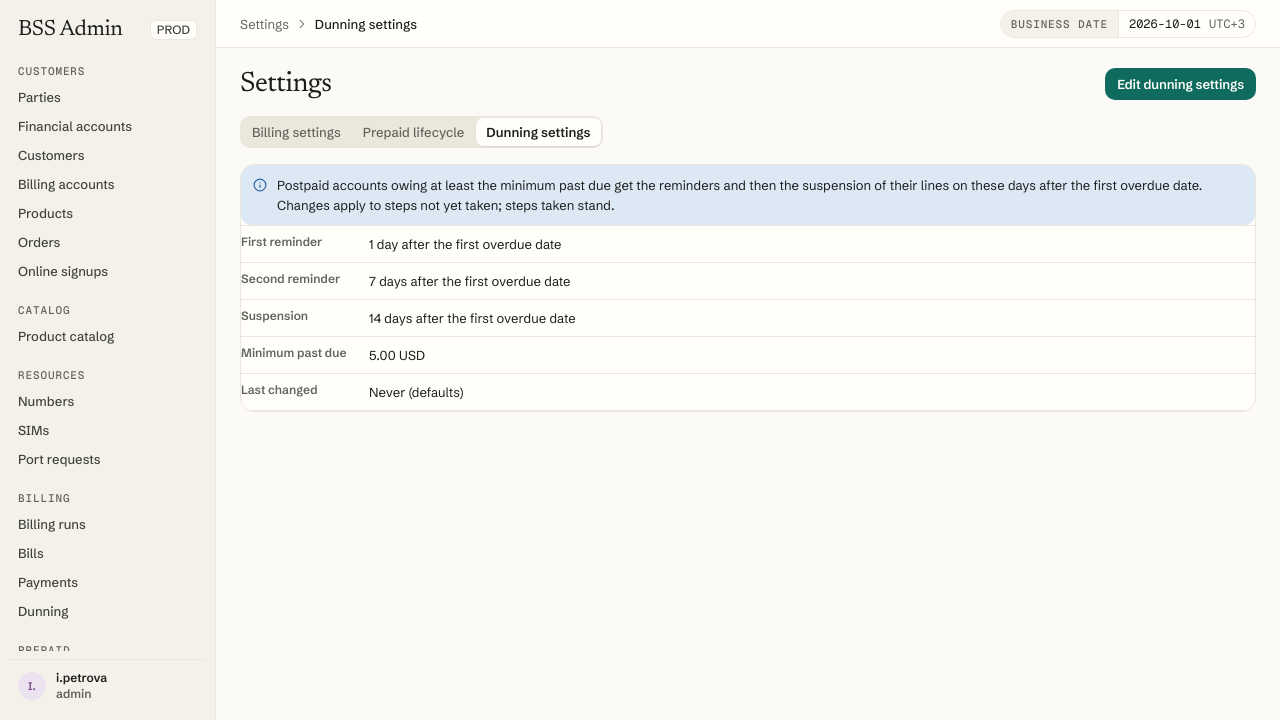
Scenario: dunning settings › cancels the edit, and refreshes after an unanswered save
Expected: the heading "Settings" is shown, [240,68,332,100]
Click the button "Edit dunning settings" at [1181, 84], box [1105,68,1256,100]
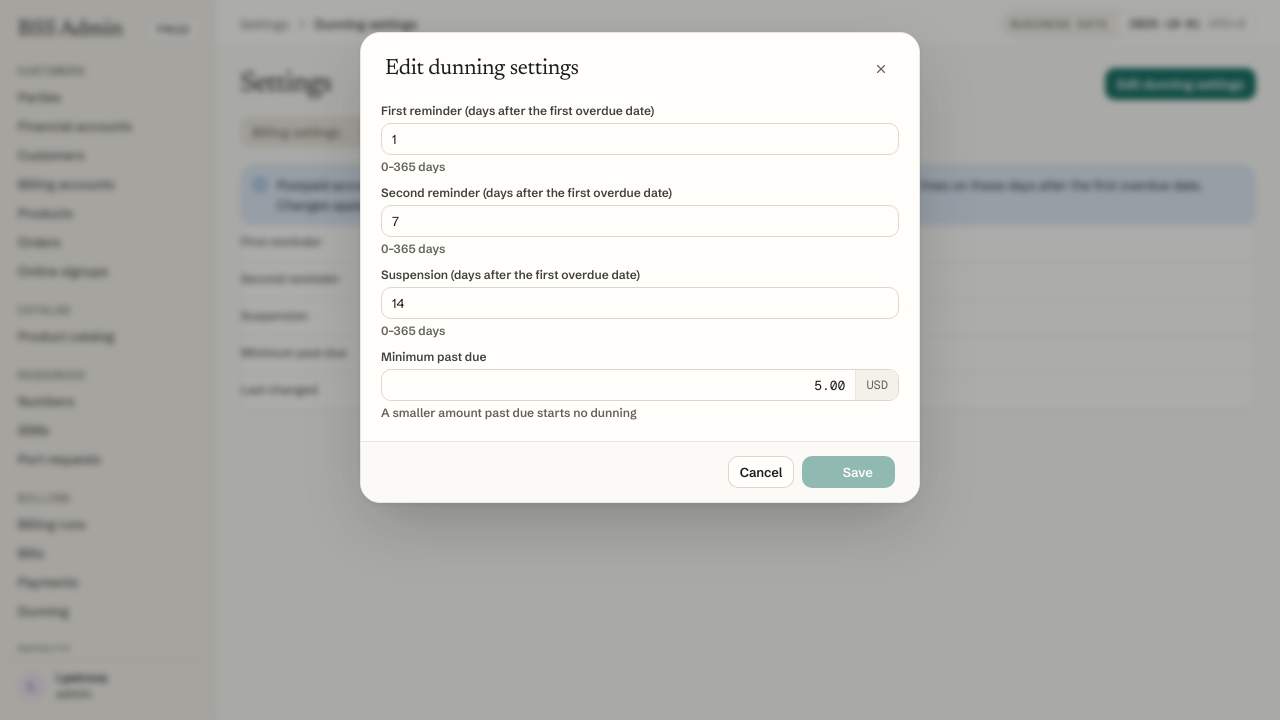
Click the button "Cancel" at [761, 472], box [728,456,794,488]
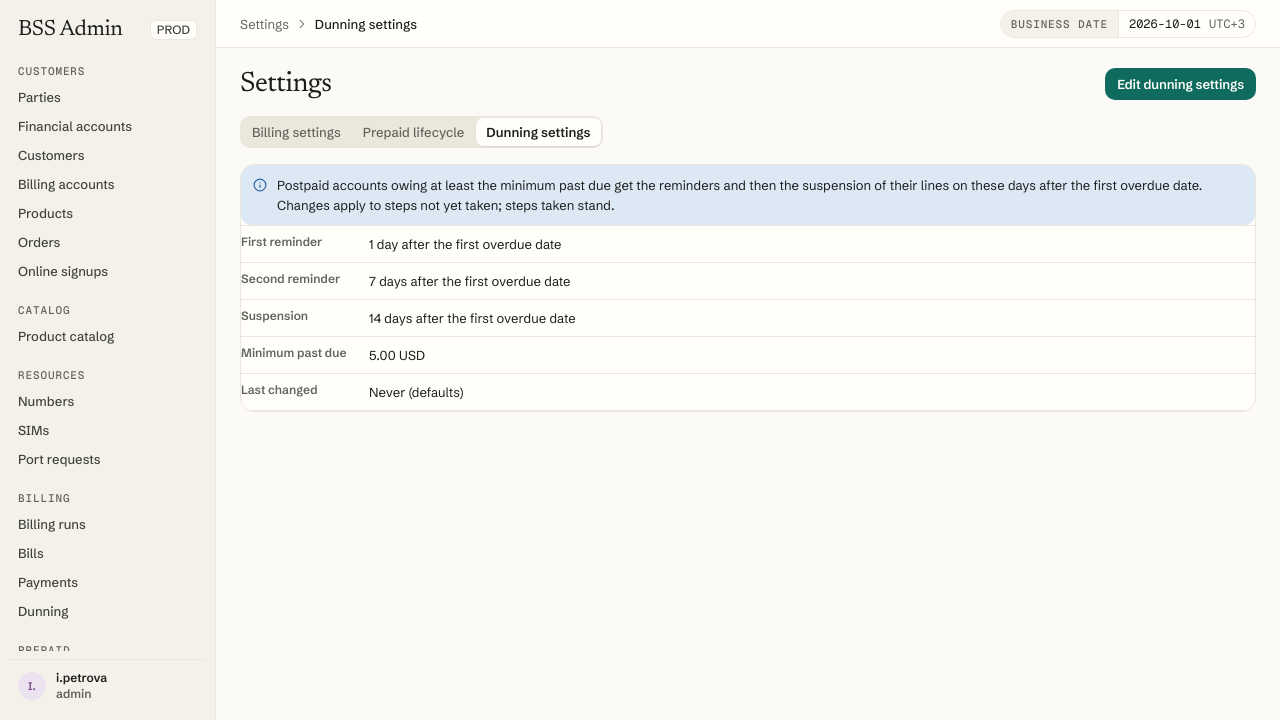
Expected: the dialog is gone
Click the button "Edit dunning settings" at [1181, 84], box [1105,68,1256,100]
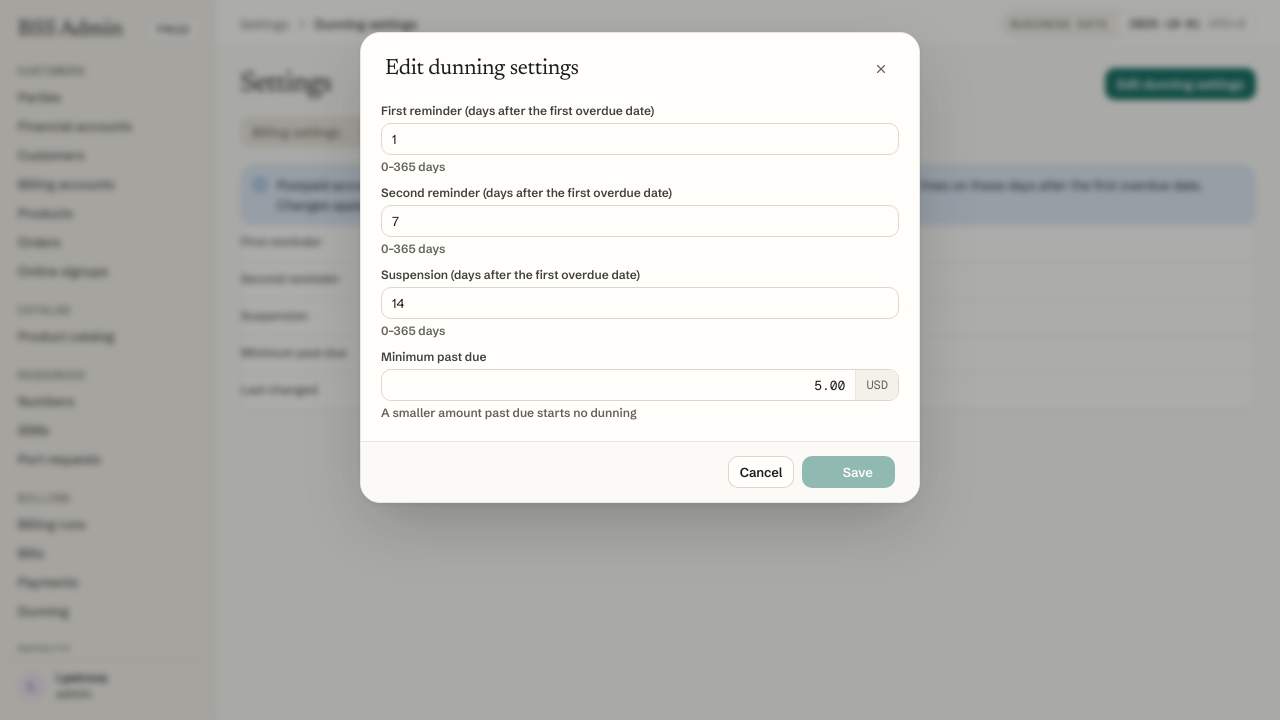
Replace the text in the number field labelled "Suspension" with "20" at [640, 303], box [381,287,899,319]
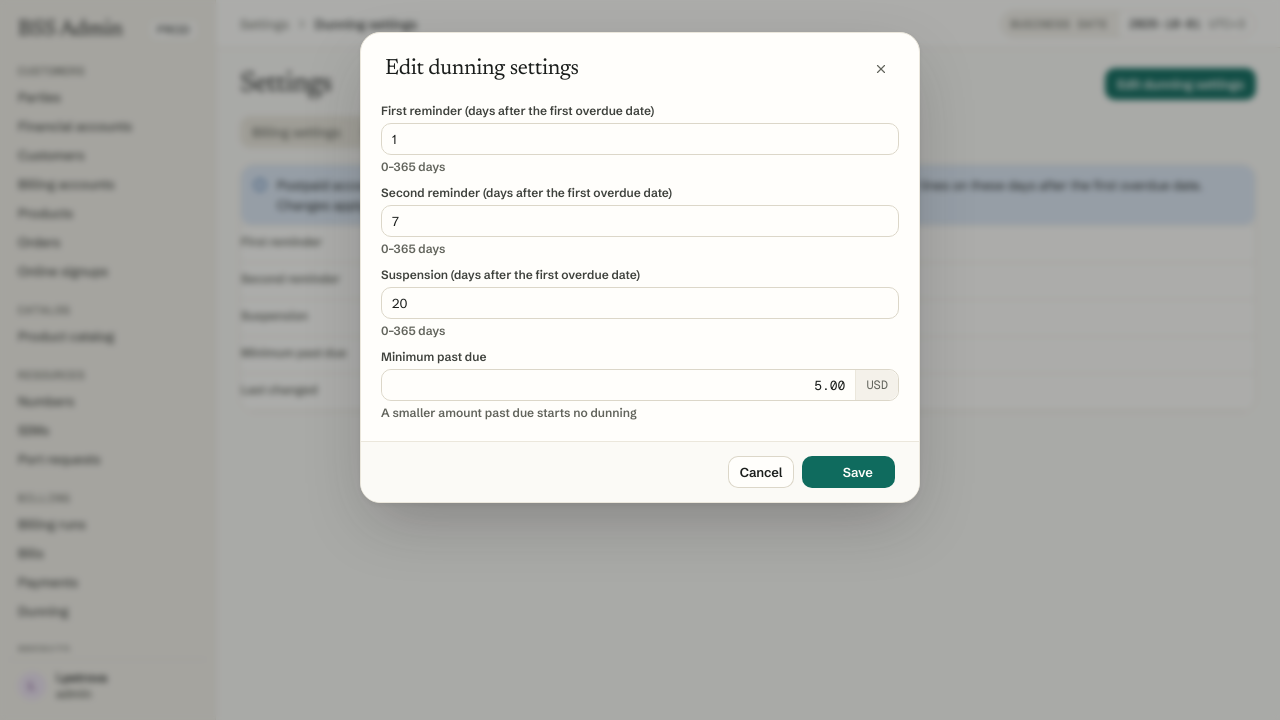
Click the button "Save" at [849, 472], box [802,456,895,488]
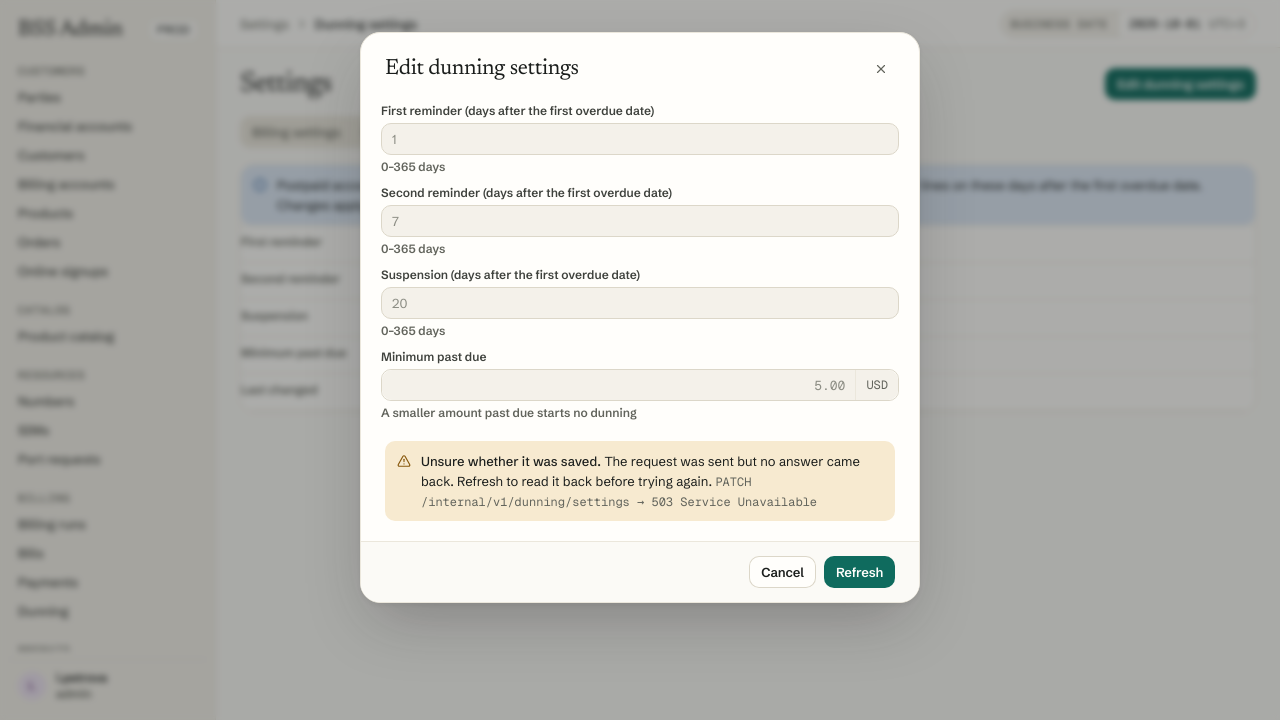
Expected: the text "Unsure whether it was saved." is shown, [421,453,601,469]
Click the button "Refresh" at [859, 572], box [824,556,895,588]
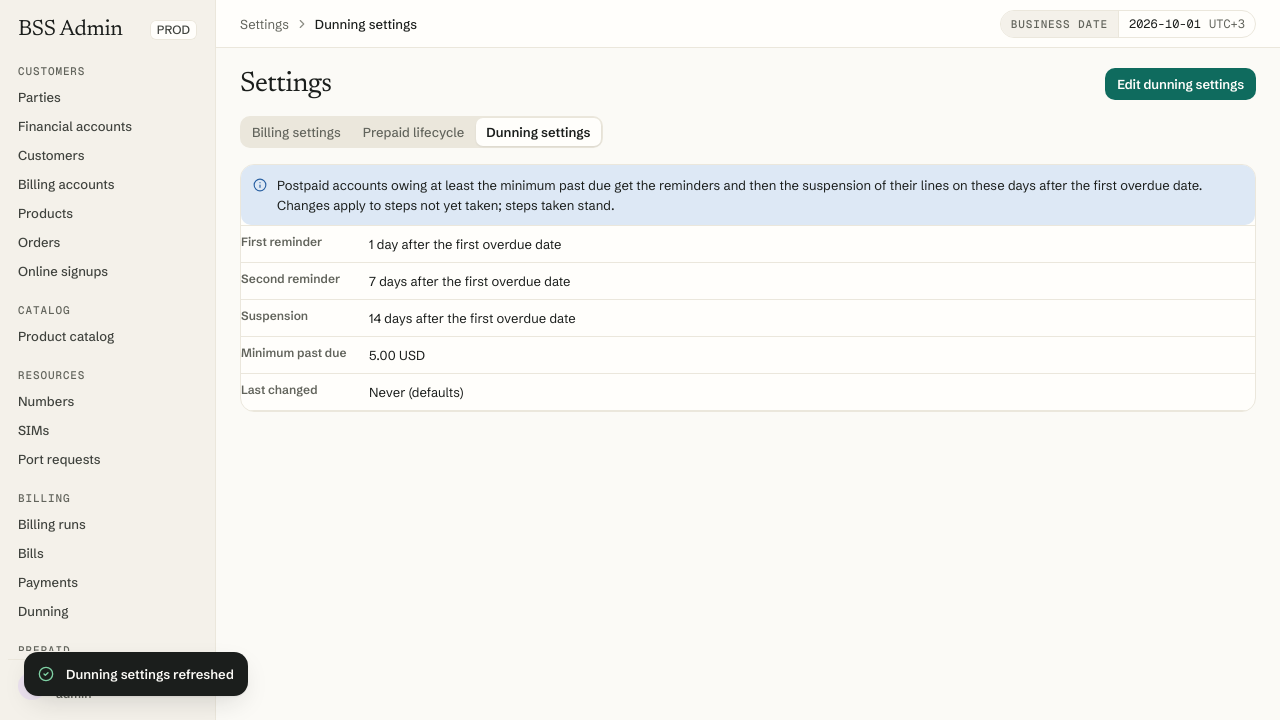
Expected: the text "Dunning settings refreshed" is shown, [66,664,234,684]
Expected: the dialog is gone
